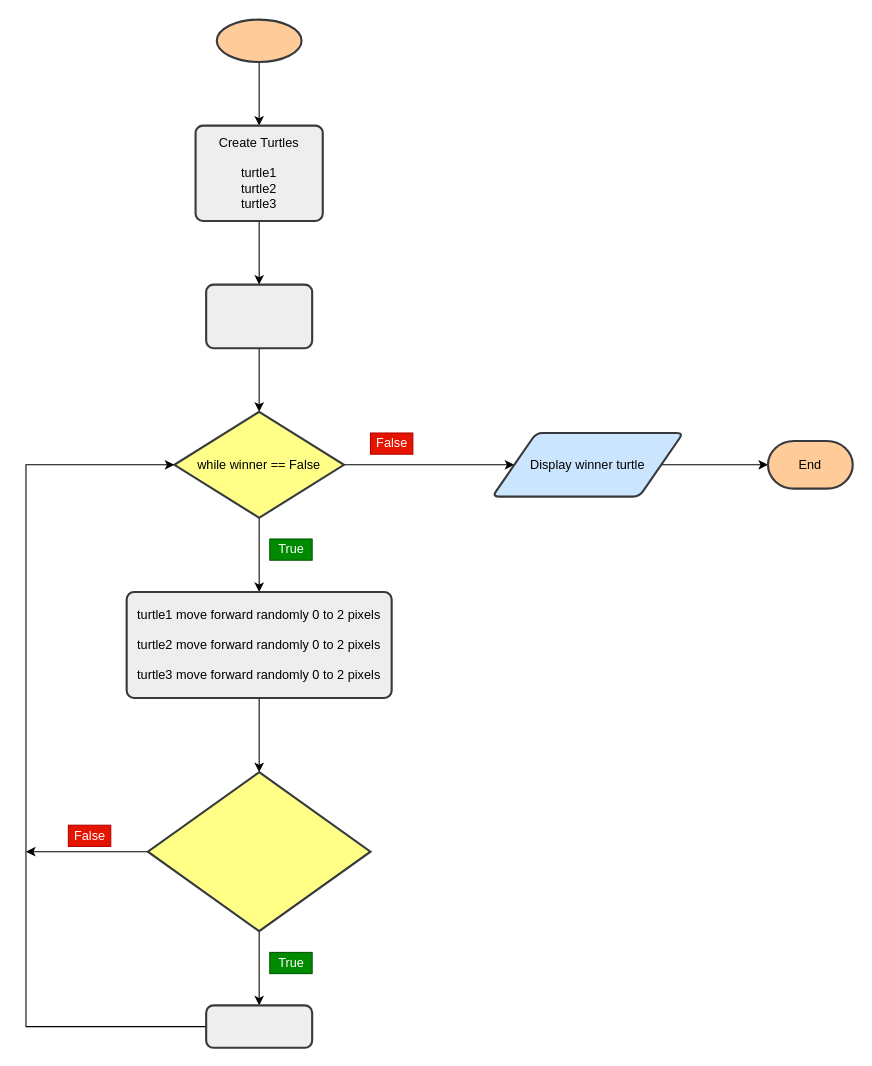
The diagram is 872 pixels wide and 1066 high, and some of its shapes have lost their labels. Each missing label, with the centre of its shape:
"cross_line = 10 winner = False" goes at point 259,316.
"IF turtle1 or turtle2 or turtle3 croesses cross_line" goes at point 258,851.
"Start" goes at point 258,40.
"winner = True" goes at point 259,1026.
